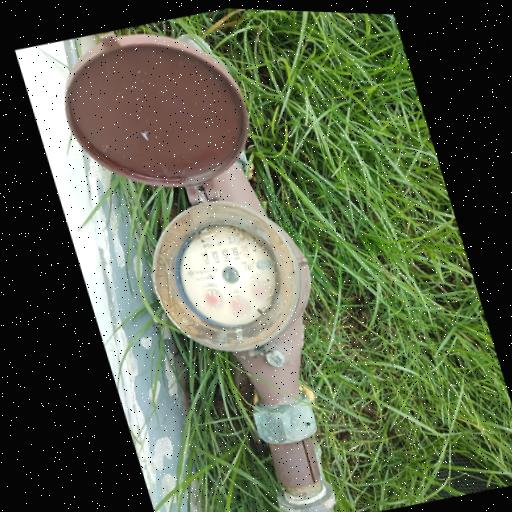0: (201, 252, 211, 265)
2: (240, 244, 251, 259)
6: (210, 249, 221, 263)
8: (230, 246, 241, 261)
9: (219, 248, 231, 263)
border_water_meter_number: (199, 243, 251, 269)
